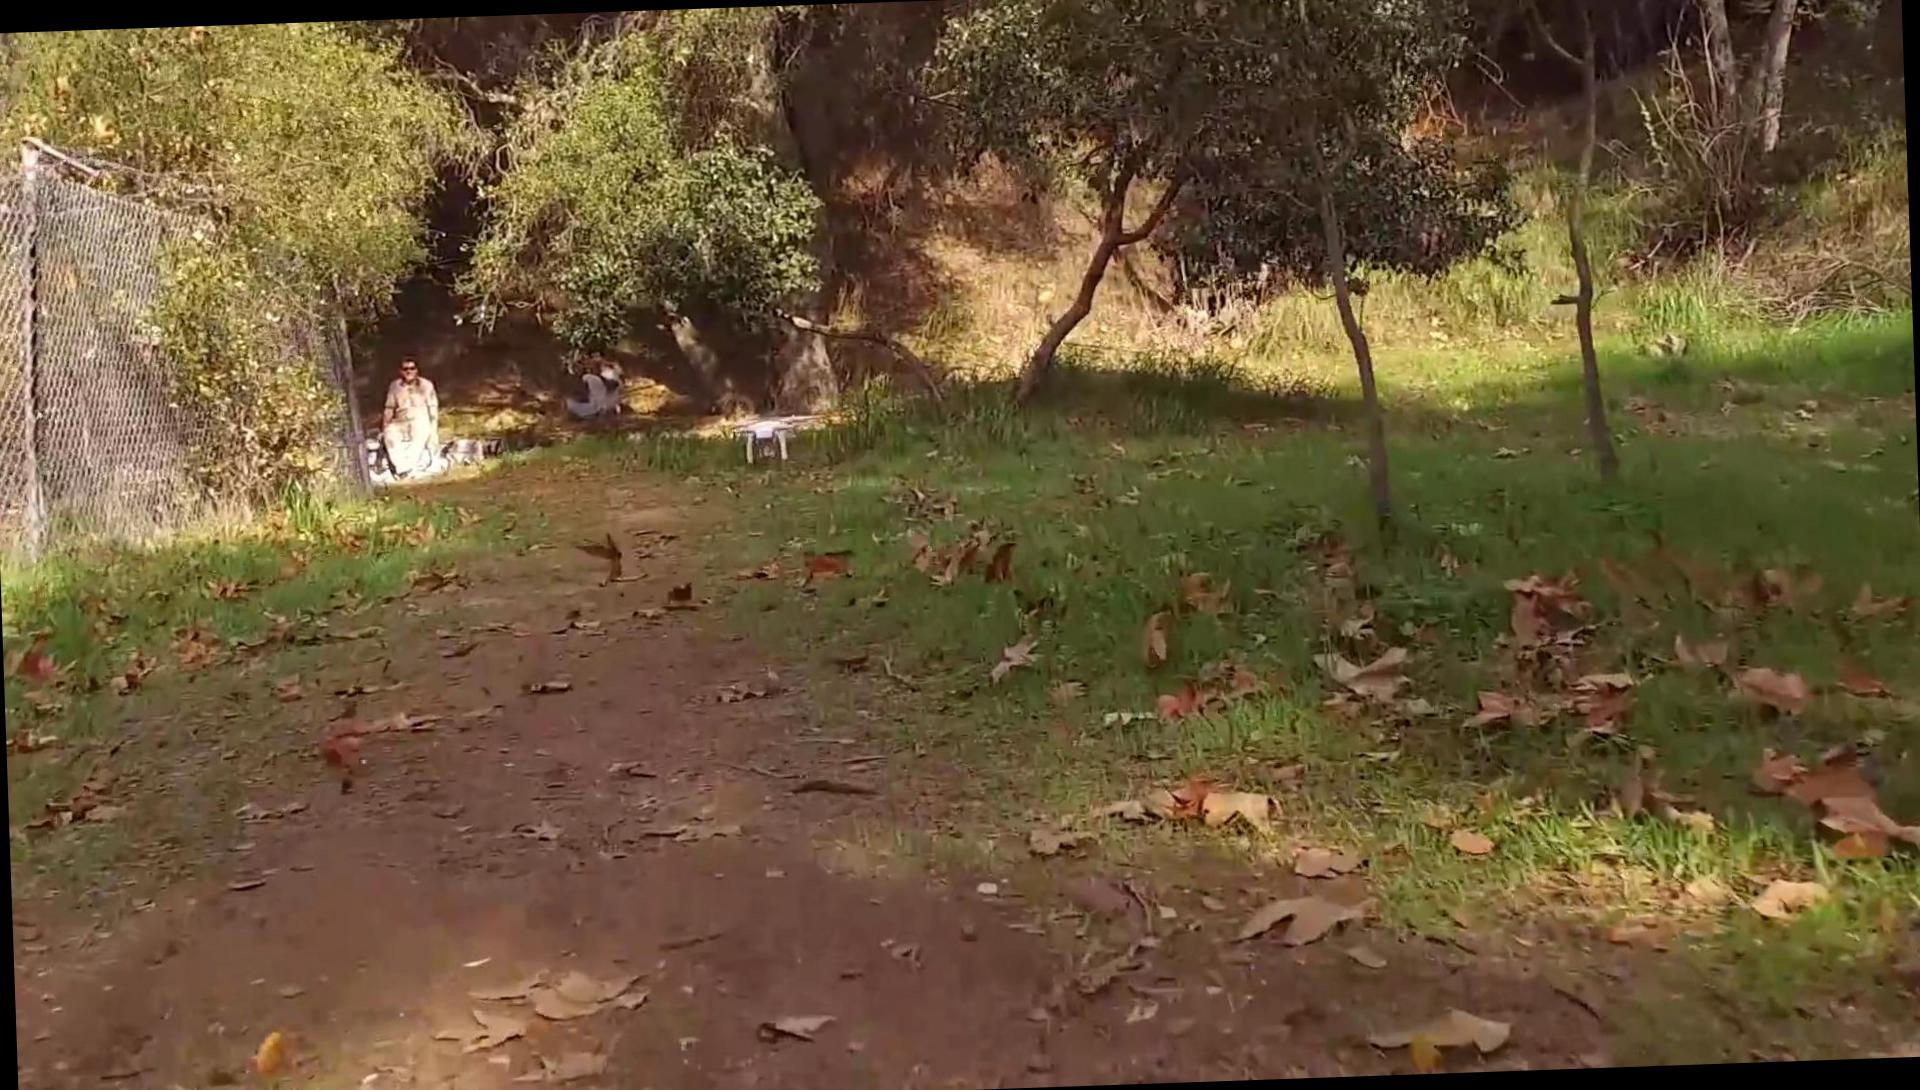drone: (716, 406, 811, 468)
